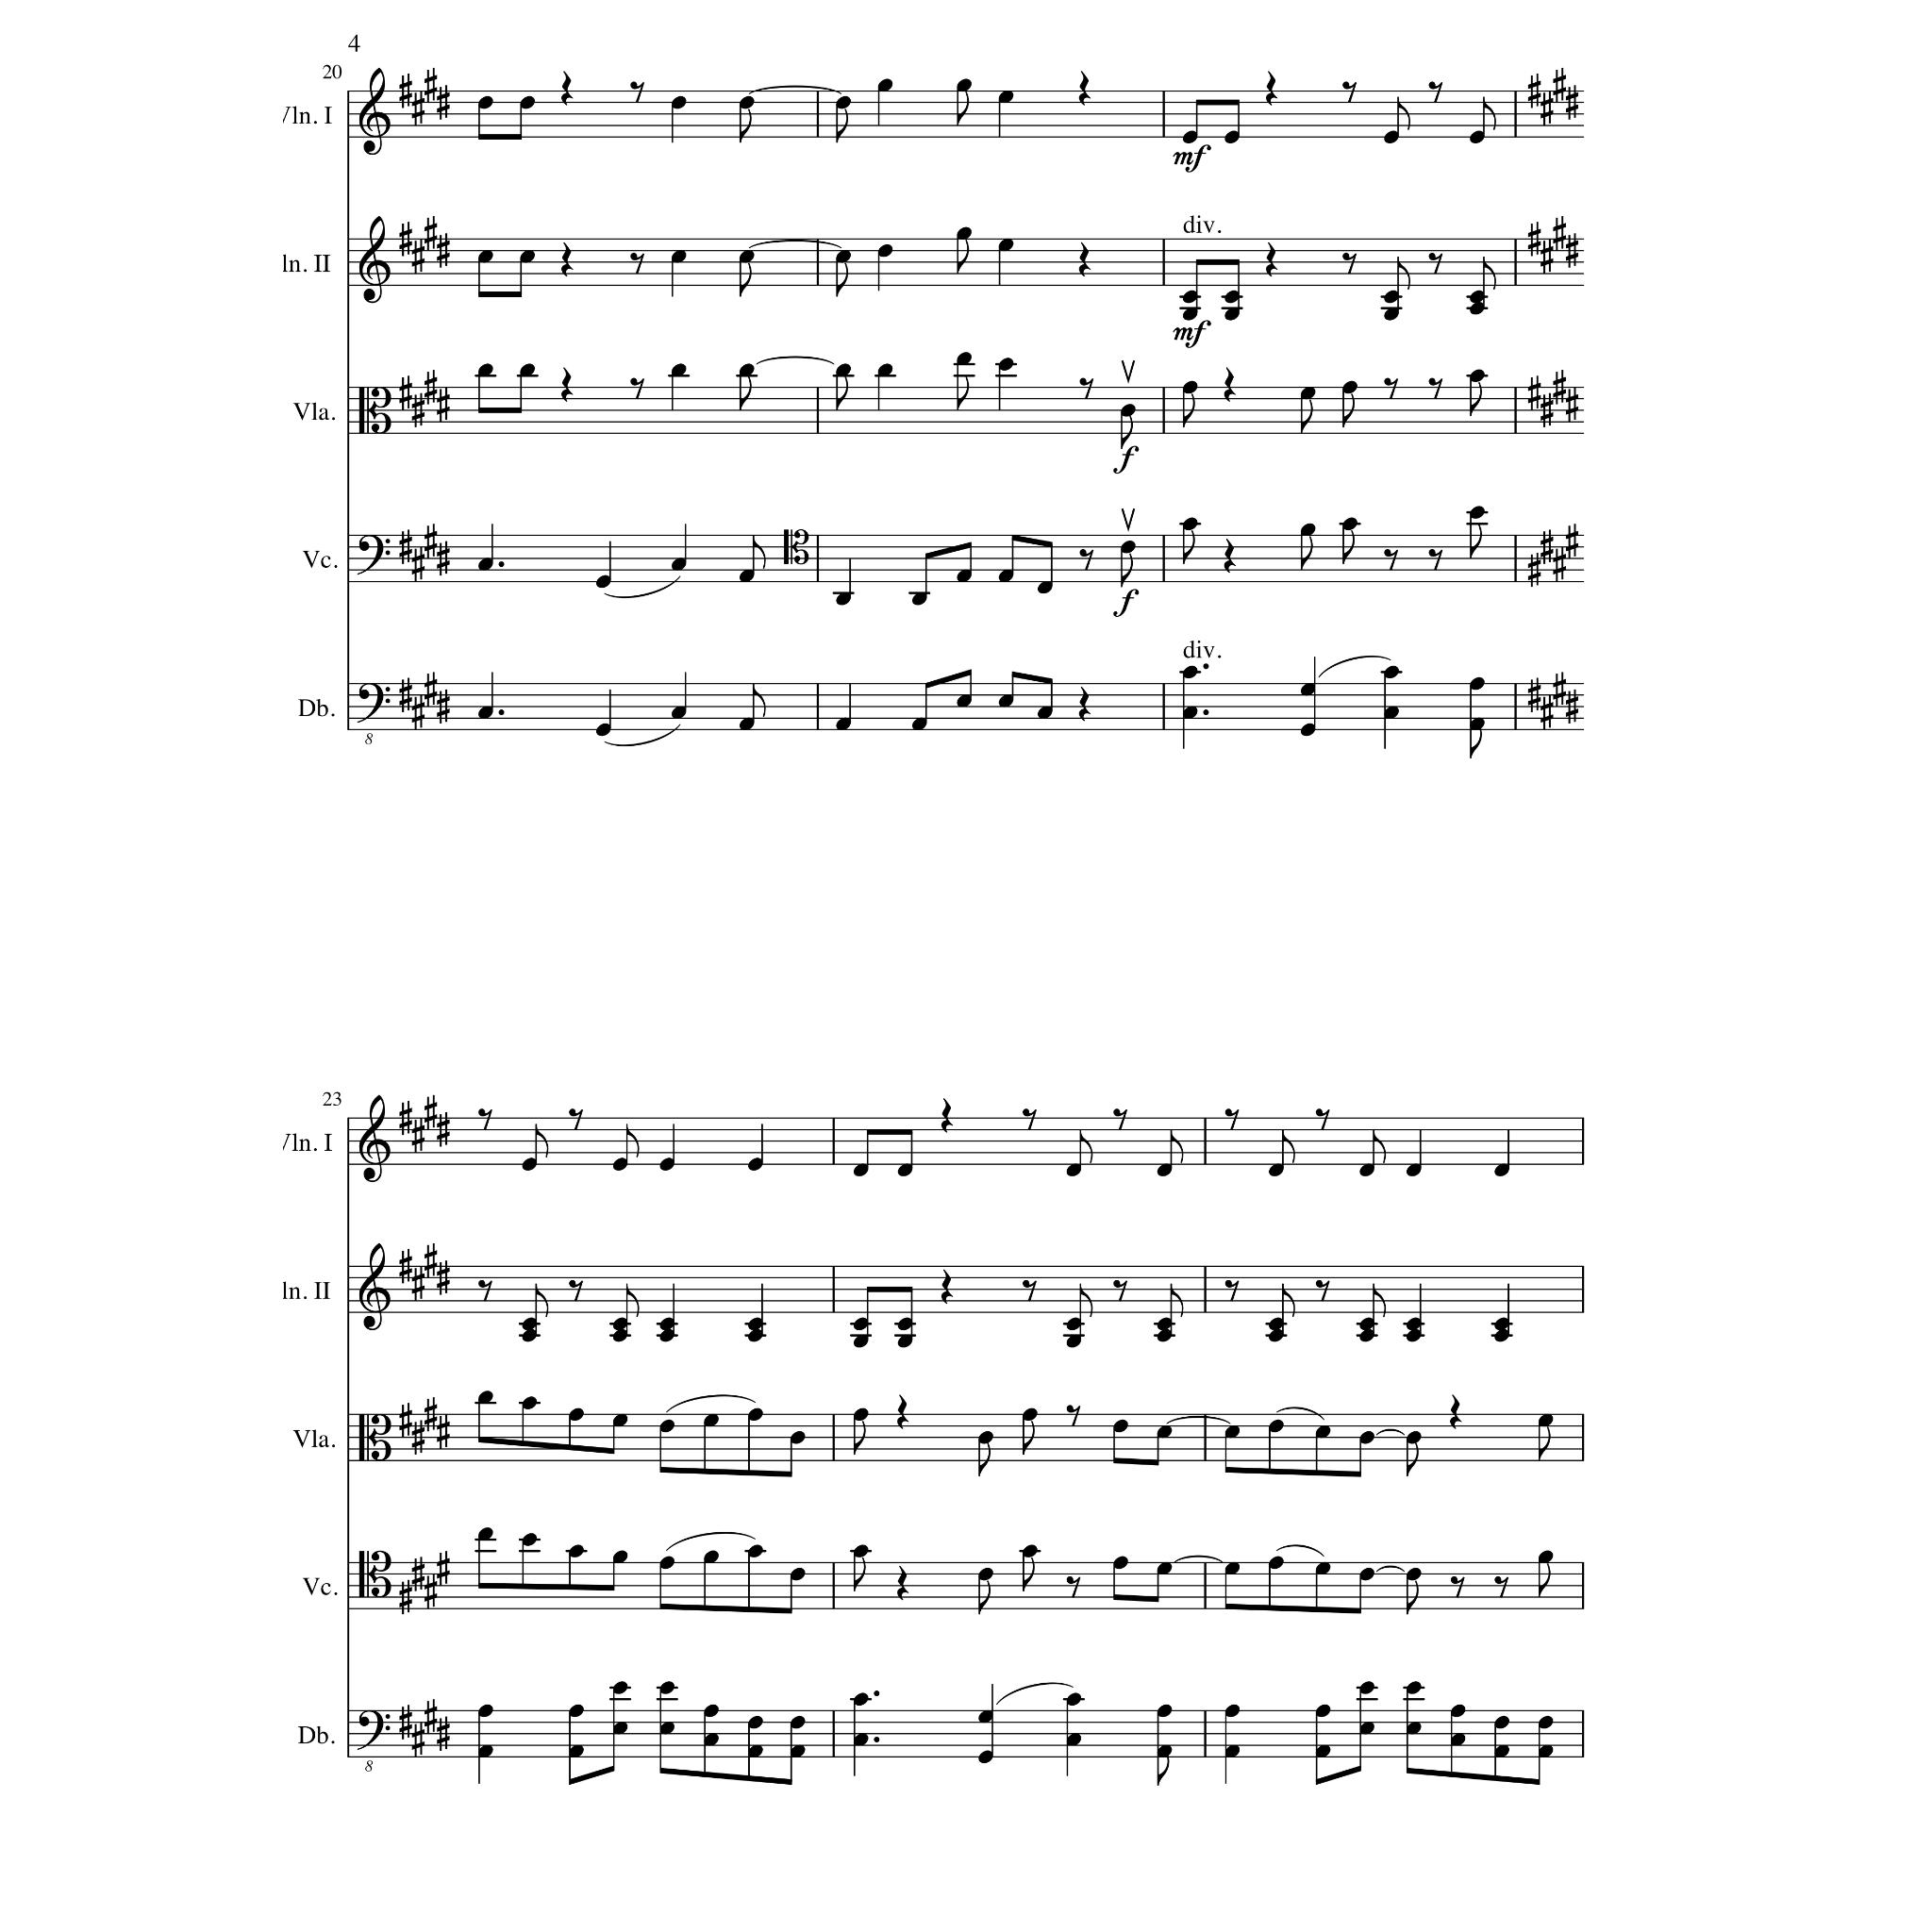fClef: (357, 536, 391, 577), (357, 683, 391, 724), (357, 1709, 391, 1750)
flag8thDown: (1470, 524, 1483, 559), (957, 239, 970, 274), (1157, 1752, 1169, 1787), (1023, 1557, 1035, 1592), (1537, 1426, 1550, 1461), (1407, 1580, 1419, 1615), (853, 1557, 865, 1592), (978, 1580, 991, 1615), (1182, 395, 1194, 428), (1182, 531, 1194, 564), (1122, 416, 1134, 449), (1122, 554, 1134, 587), (1470, 382, 1483, 416), (1470, 725, 1483, 759), (1343, 395, 1355, 428), (1343, 531, 1355, 564), (1300, 536, 1313, 570), (1300, 400, 1313, 433), (957, 92, 970, 126), (740, 110, 752, 143), (957, 377, 970, 410), (740, 377, 752, 410), (837, 110, 849, 143), (837, 264, 849, 297), (837, 377, 849, 410), (740, 264, 752, 297), (1023, 1421, 1035, 1454), (1537, 1564, 1550, 1598), (1407, 1442, 1419, 1476), (978, 1442, 991, 1476), (853, 1421, 865, 1454)
flag8thUp: (1483, 257, 1497, 290), (1483, 97, 1497, 131), (752, 536, 766, 570), (752, 685, 766, 718), (626, 1125, 640, 1159), (626, 1284, 640, 1318), (534, 1125, 548, 1159), (534, 1284, 548, 1318), (1398, 97, 1410, 131), (1398, 257, 1410, 290), (1283, 1284, 1295, 1318), (1283, 1131, 1295, 1164), (1081, 1131, 1093, 1164), (1081, 1284, 1093, 1318), (1171, 1131, 1184, 1164), (1171, 1284, 1184, 1318), (1373, 1131, 1385, 1164), (1373, 1284, 1385, 1318)
gClef: (359, 216, 391, 304), (359, 67, 391, 156), (359, 1242, 391, 1330), (359, 1095, 391, 1184)
noteheadBlack: (1299, 386, 1316, 400), (1299, 683, 1316, 697), (1341, 380, 1359, 395), (1155, 1744, 1173, 1759), (1155, 1704, 1173, 1718), (1155, 1162, 1173, 1177), (1155, 1329, 1173, 1343), (1155, 1318, 1173, 1332), (658, 1157, 676, 1171), (658, 1329, 676, 1343), (658, 1318, 676, 1332), (658, 1419, 676, 1433), (658, 1555, 676, 1569), (658, 1721, 676, 1736), (658, 1681, 676, 1695), (1224, 131, 1240, 145), (1224, 290, 1240, 304), (1037, 580, 1053, 594), (1182, 290, 1198, 304), (1182, 380, 1198, 395), (1182, 665, 1198, 679), (1182, 131, 1198, 145), (1468, 506, 1484, 520), (1468, 131, 1484, 145), (1468, 301, 1484, 315), (1468, 290, 1484, 304), (1384, 131, 1399, 145), (1384, 290, 1399, 304), (1384, 665, 1399, 679), (594, 575, 610, 589), (738, 96, 754, 110), (738, 570, 754, 584), (671, 249, 686, 264), (671, 96, 686, 110), (520, 96, 536, 110), (520, 249, 536, 264), (478, 96, 494, 110), (478, 249, 494, 264), (738, 249, 754, 264), (955, 570, 971, 584), (955, 694, 971, 708), (998, 90, 1014, 104), (998, 357, 1014, 372), (998, 570, 1014, 584), (998, 694, 1014, 708), (878, 244, 893, 258), (835, 96, 851, 110), (835, 249, 851, 264), (1224, 1744, 1240, 1759), (1224, 1704, 1240, 1718), (1315, 1744, 1330, 1759), (1315, 1704, 1330, 1718), (1267, 1162, 1283, 1177), (1267, 1329, 1283, 1343), (1267, 1318, 1283, 1332), (1267, 1419, 1283, 1433), (1267, 1555, 1283, 1569), (1113, 1419, 1129, 1433), (1113, 1555, 1129, 1569), (1065, 1162, 1081, 1177), (1065, 1334, 1081, 1348), (1065, 1318, 1081, 1332), (1065, 1732, 1081, 1746), (1537, 1414, 1553, 1428), (1537, 1744, 1553, 1759), (1537, 1716, 1553, 1730), (1493, 1162, 1509, 1177), (1493, 1329, 1509, 1343), (1493, 1318, 1509, 1332), (1493, 1744, 1509, 1759), (1493, 1716, 1509, 1730), (1359, 1568, 1375, 1582), (1359, 1721, 1375, 1736), (1359, 1681, 1375, 1695), (1359, 1431, 1375, 1445), (1359, 1162, 1375, 1177), (1359, 1329, 1375, 1343), (1359, 1318, 1375, 1332), (1449, 1732, 1465, 1746), (1449, 1704, 1465, 1718), (1407, 1162, 1422, 1177), (1407, 1329, 1422, 1343), (1407, 1318, 1422, 1332), (1407, 1431, 1422, 1445), (1407, 1568, 1422, 1582), (1407, 1721, 1422, 1736), (1407, 1681, 1422, 1695), (612, 1157, 628, 1171), (612, 1329, 628, 1343), (612, 1318, 628, 1332), (612, 1414, 628, 1428), (612, 1721, 628, 1736), (612, 1681, 628, 1695), (568, 1408, 584, 1422), (568, 1545, 584, 1559), (568, 1744, 584, 1759), (568, 1704, 584, 1718), (704, 1732, 720, 1746), (704, 1704, 720, 1718), (478, 1391, 494, 1405), (478, 1527, 494, 1541), (478, 1744, 494, 1759), (478, 1704, 494, 1718), (522, 1396, 538, 1410), (522, 1532, 538, 1546), (522, 1318, 538, 1332), (704, 1414, 720, 1428), (522, 1157, 538, 1171), (522, 1329, 538, 1343), (897, 1162, 913, 1177), (897, 1334, 913, 1348), (897, 1318, 913, 1332), (978, 1750, 994, 1764), (978, 1568, 994, 1582), (1021, 1408, 1037, 1422), (1021, 1545, 1037, 1559), (978, 1431, 994, 1445), (789, 1431, 805, 1445), (789, 1568, 805, 1582), (789, 1744, 805, 1759), (789, 1716, 805, 1730), (747, 1157, 763, 1171), (747, 1329, 763, 1343), (747, 1318, 763, 1332), (747, 1408, 763, 1422), (747, 1545, 763, 1559), (747, 1744, 763, 1759), (747, 1716, 763, 1730), (853, 1732, 869, 1746), (853, 1162, 869, 1177), (853, 1334, 869, 1348), (853, 1318, 869, 1332), (853, 1408, 869, 1422), (853, 1545, 869, 1559), (1341, 518, 1359, 531), (1299, 724, 1316, 736), (1299, 524, 1316, 536), (1155, 1562, 1173, 1575), (1155, 1426, 1173, 1438), (1224, 308, 1240, 320), (1037, 706, 1053, 718), (1182, 308, 1198, 320), (1182, 518, 1198, 531), (1182, 706, 1198, 718), (1120, 405, 1136, 418), (1120, 541, 1136, 554), (1468, 370, 1484, 382), (1468, 718, 1484, 731), (1468, 678, 1484, 690), (1384, 308, 1399, 320), (1384, 706, 1399, 718), (594, 724, 610, 736), (738, 364, 754, 377), (738, 718, 754, 731), (671, 364, 686, 377), (671, 559, 686, 571), (671, 706, 686, 718), (520, 364, 536, 377), (478, 364, 494, 377), (478, 559, 494, 571), (478, 706, 494, 718), (911, 718, 927, 731), (911, 593, 927, 605), (955, 80, 971, 92), (955, 228, 971, 241), (955, 352, 971, 364), (878, 80, 893, 92), (878, 364, 893, 377), (998, 239, 1014, 251), (835, 364, 851, 377), (835, 593, 851, 605), (835, 718, 851, 731), (1224, 1426, 1240, 1438), (1224, 1562, 1240, 1575), (1315, 1426, 1330, 1438), (1315, 1562, 1330, 1575), (1065, 1693, 1081, 1706), (1537, 1552, 1553, 1564), (612, 1552, 628, 1564), (704, 1552, 720, 1564), (978, 1711, 994, 1723), (853, 1693, 869, 1706)
rest8th: (1079, 379, 1095, 402), (1079, 548, 1095, 571), (1341, 81, 1357, 104), (1341, 253, 1357, 276), (1428, 81, 1444, 104), (1428, 253, 1444, 276), (1428, 379, 1444, 402), (1428, 548, 1444, 571), (1224, 1279, 1240, 1302), (1315, 1279, 1330, 1302), (1493, 1575, 1509, 1598), (568, 1279, 584, 1302), (1021, 1279, 1037, 1302), (1224, 1109, 1240, 1131), (1315, 1109, 1330, 1131), (568, 1109, 584, 1131), (1021, 1109, 1037, 1131), (1384, 379, 1398, 402), (1384, 548, 1398, 571), (630, 81, 644, 104), (630, 253, 644, 276), (630, 379, 644, 402), (1113, 1279, 1127, 1302), (1067, 1405, 1081, 1428), (1067, 1575, 1081, 1598), (1451, 1575, 1465, 1598), (478, 1279, 492, 1302), (1113, 1109, 1127, 1131), (478, 1109, 492, 1131)
restQuarter: (1224, 538, 1237, 575), (1265, 242, 1277, 278), (1265, 71, 1277, 106), (1079, 686, 1092, 722), (1079, 242, 1092, 278), (1079, 71, 1092, 106), (561, 71, 573, 106), (561, 242, 573, 278), (1449, 1394, 1461, 1430), (897, 1394, 909, 1430), (897, 1566, 909, 1601), (941, 1097, 954, 1132), (941, 1269, 954, 1304), (1224, 368, 1237, 402), (561, 368, 573, 402)
